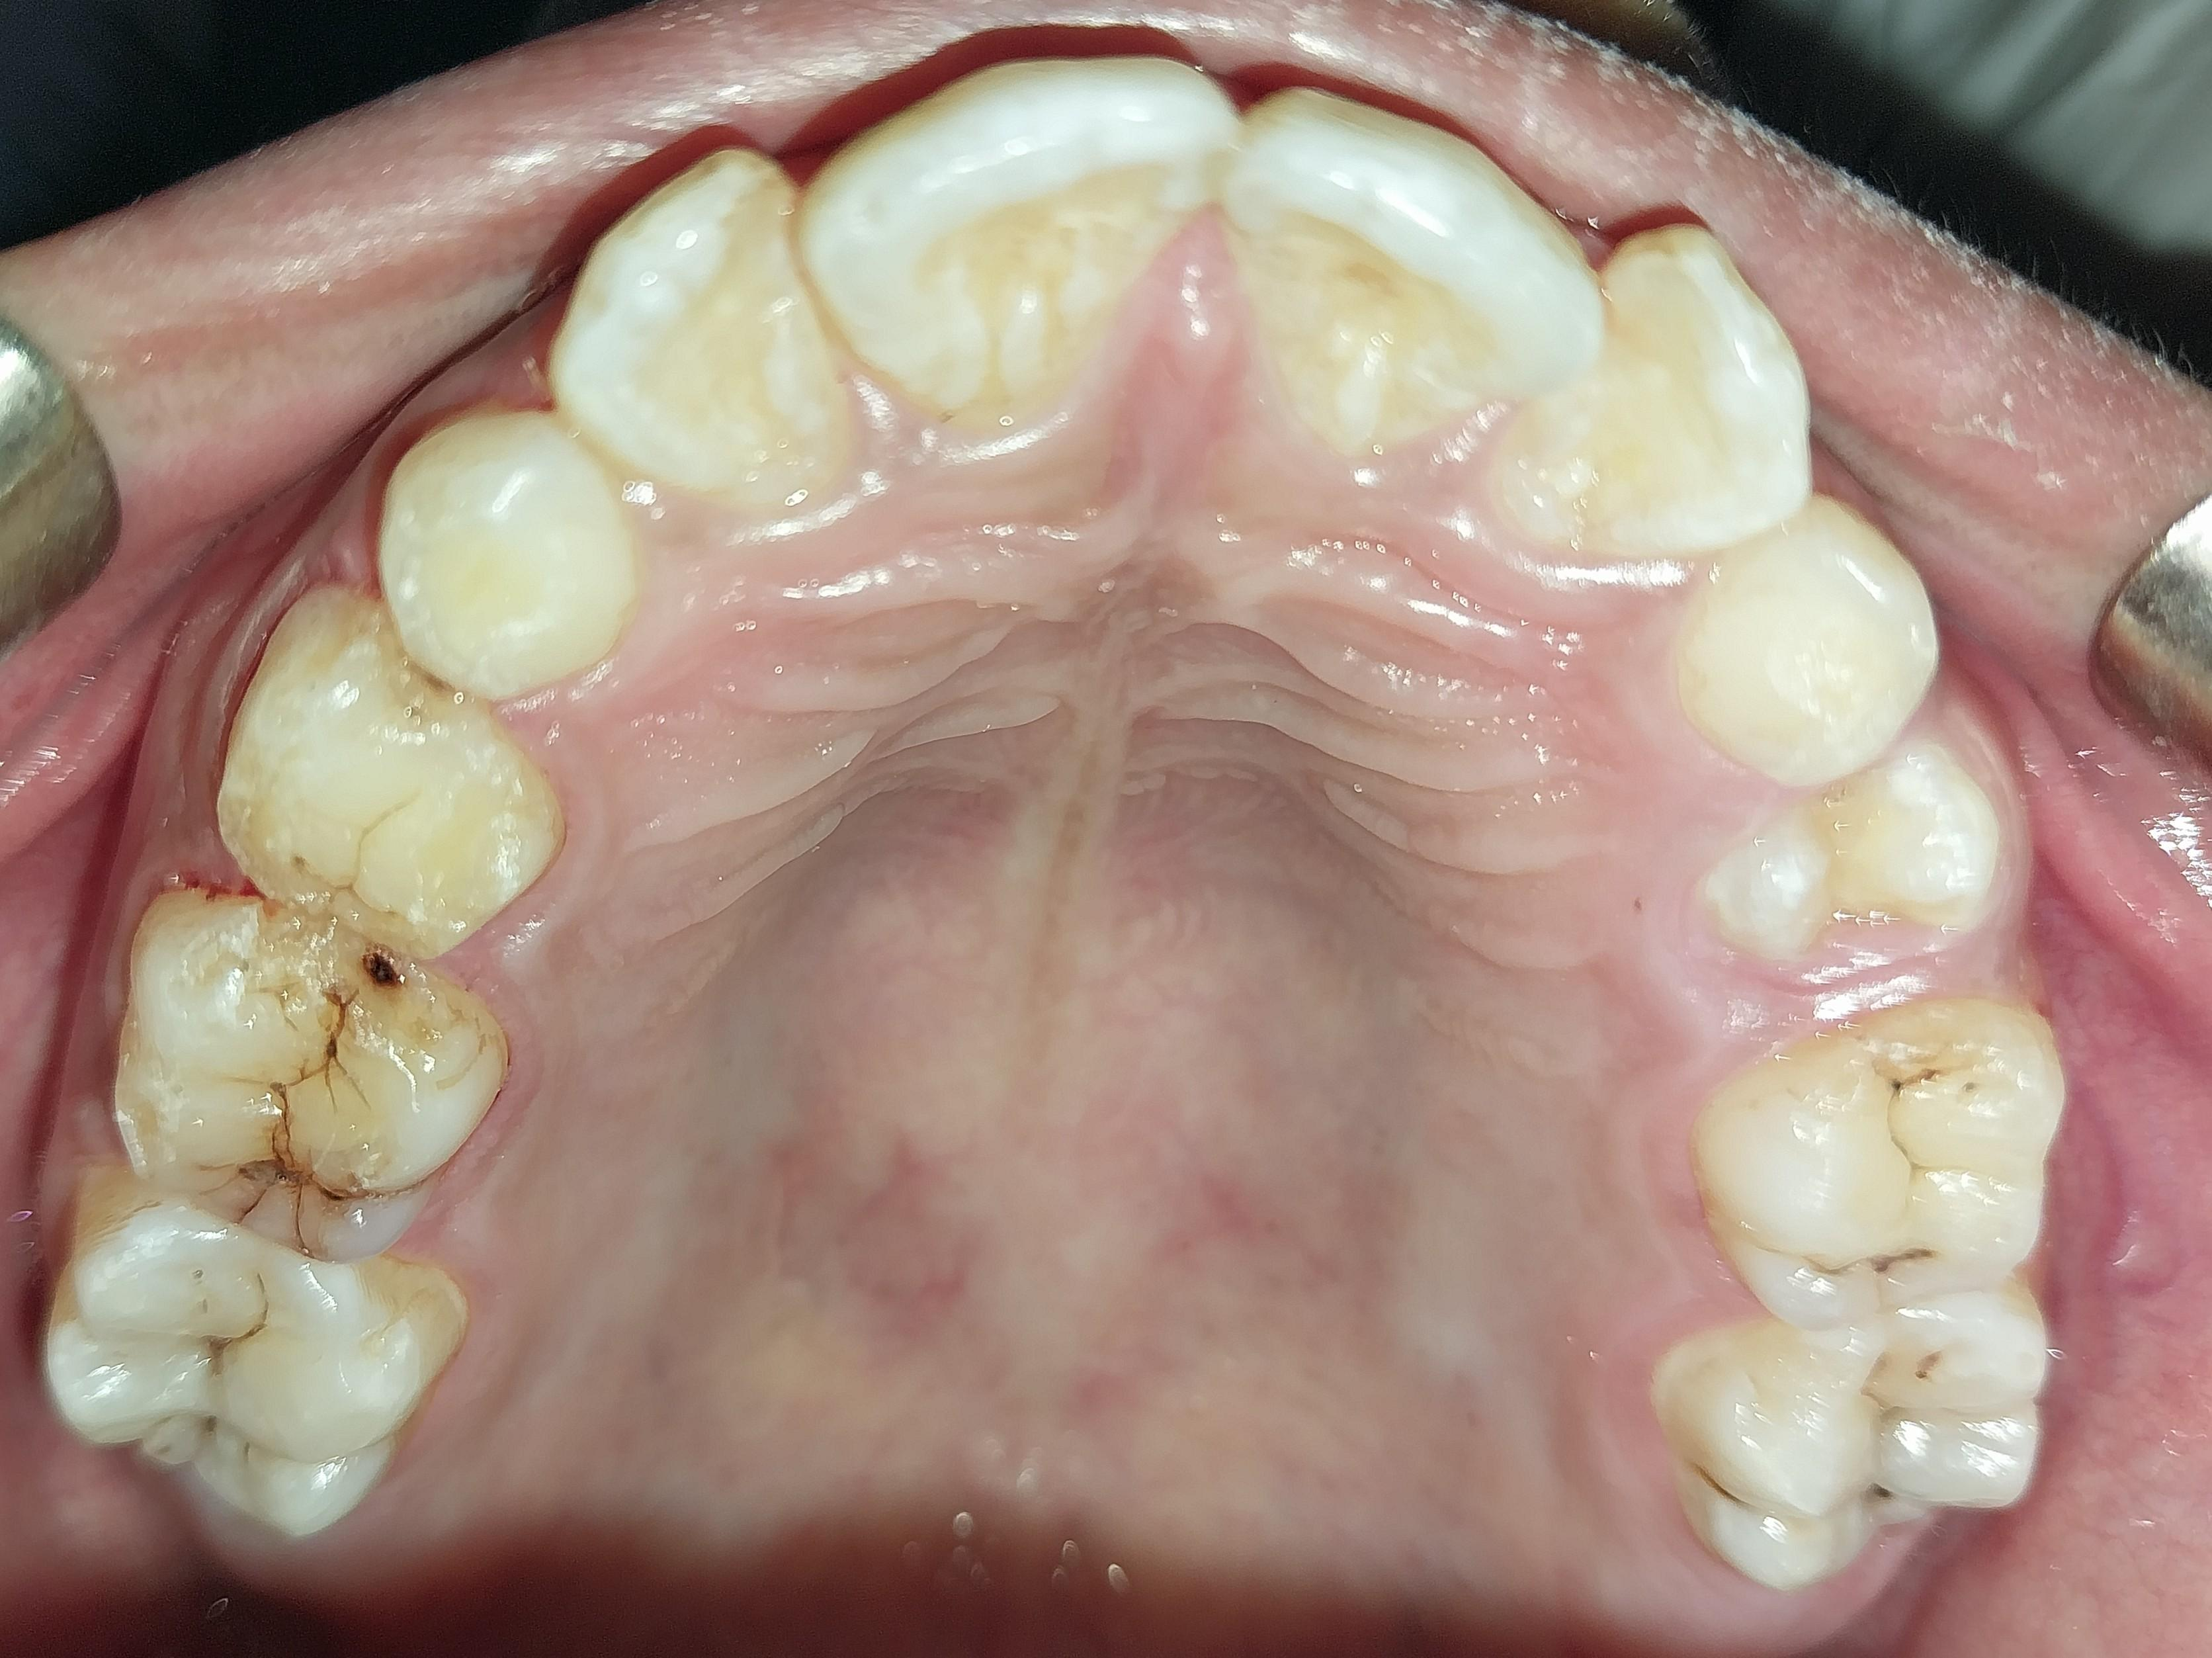D: (38, 1188, 470, 1539), (1646, 1306, 2055, 1588)
d: (114, 889, 507, 1274), (1681, 1004, 2069, 1340)
